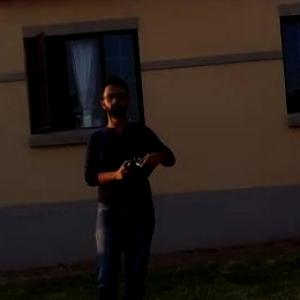follow: (74, 69, 178, 299)
